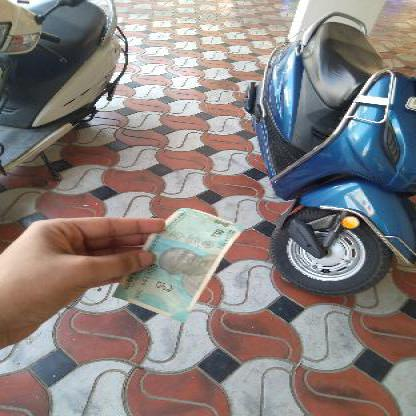New50Front: (119, 199, 233, 321)
